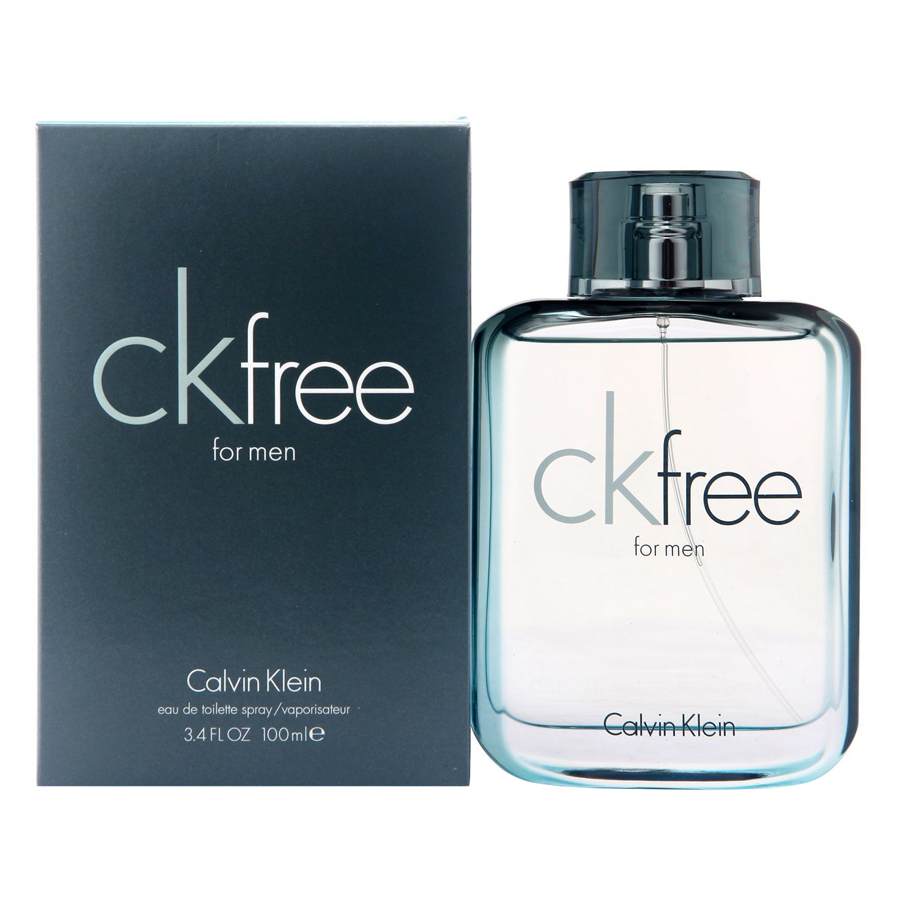Calvin Klein: (87, 264, 246, 431), (532, 385, 664, 533), (598, 704, 740, 742), (183, 660, 325, 696)
